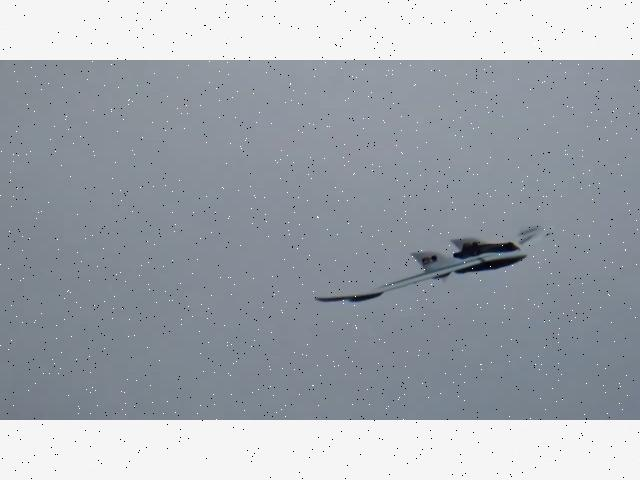Anti-Drone: (314, 218, 556, 304)
